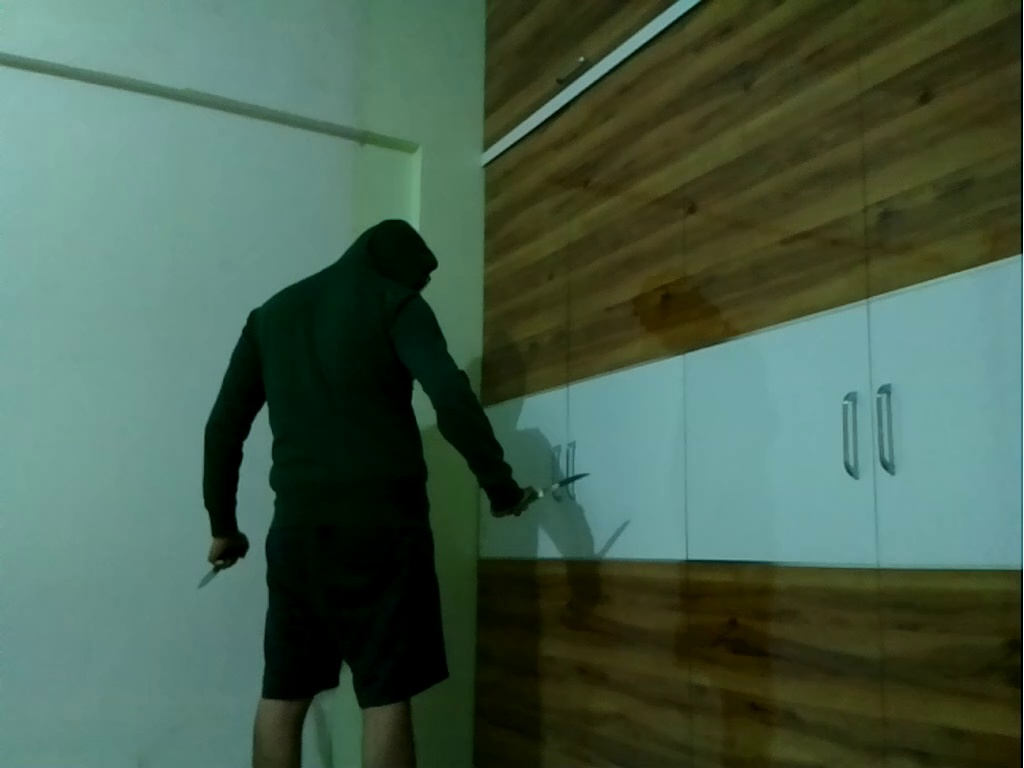knife: (492, 466, 603, 518), (190, 545, 254, 594)
